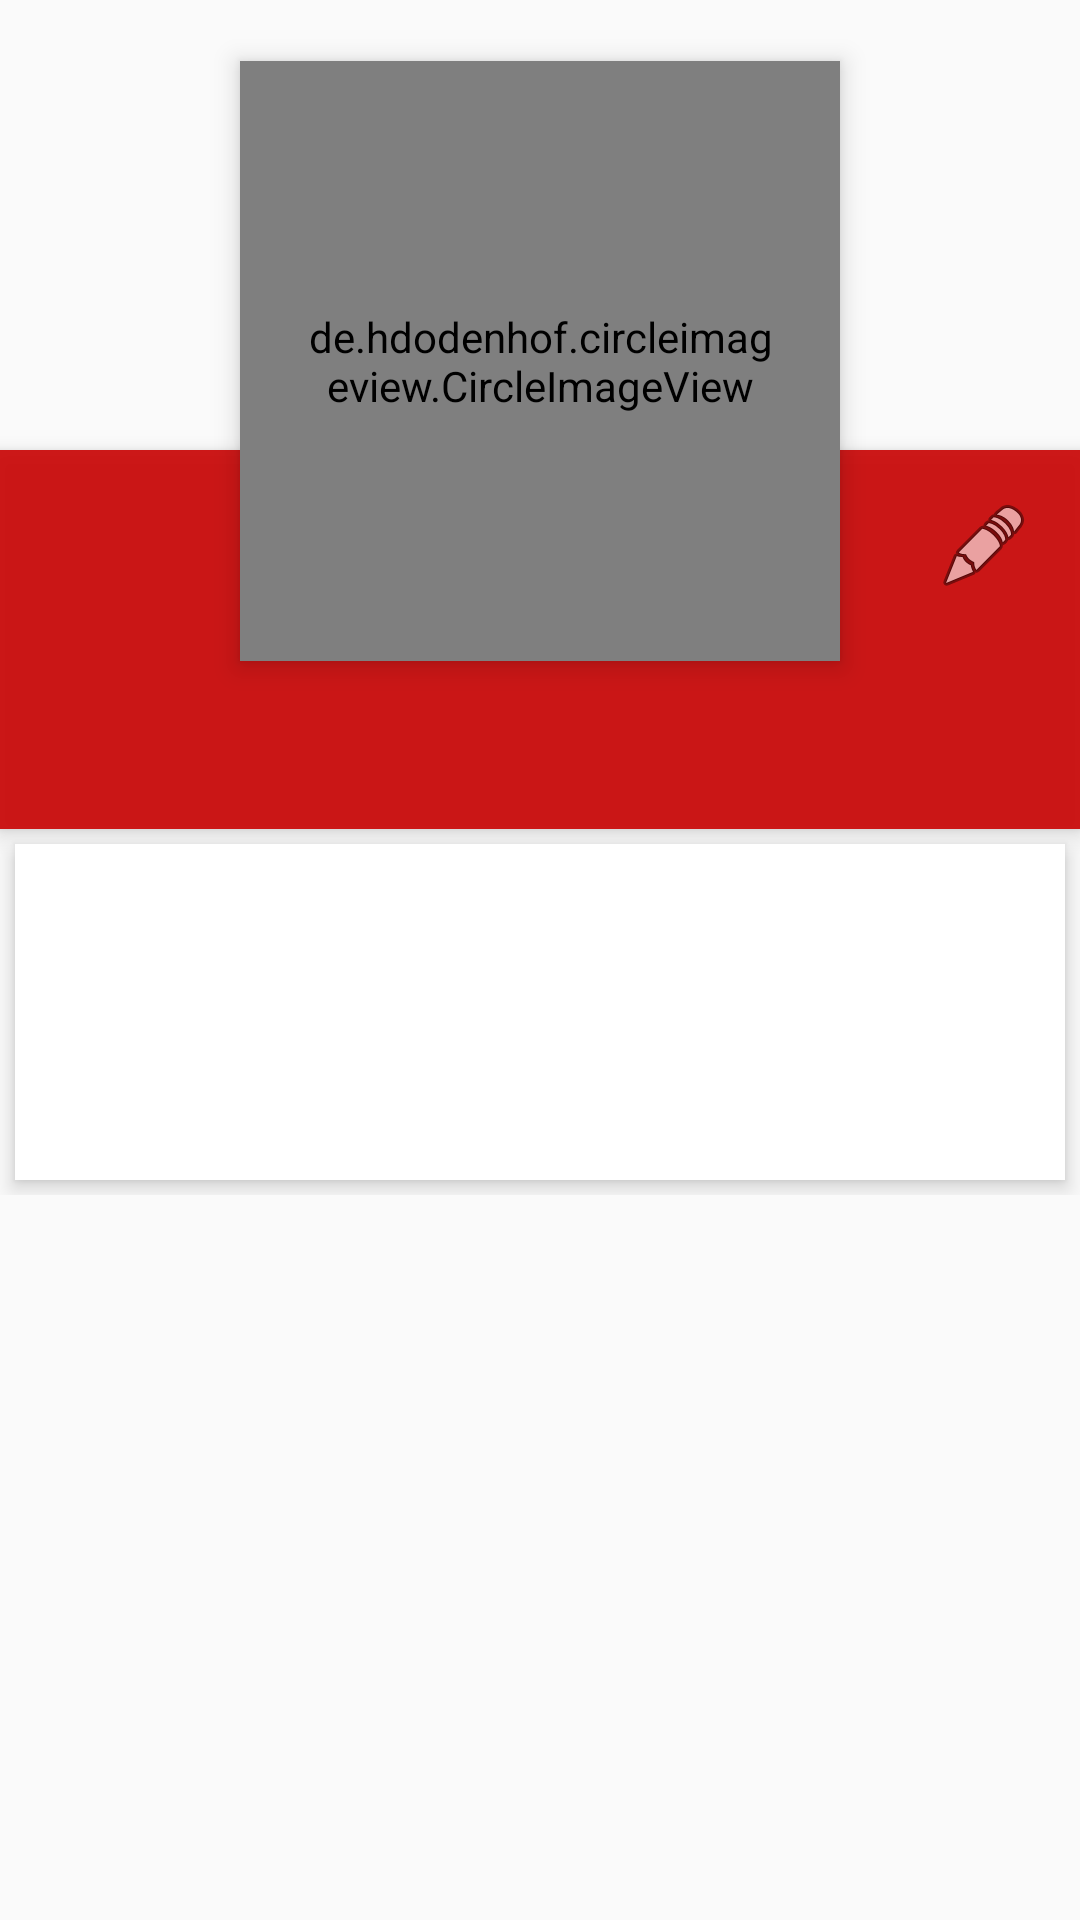

Icons on this 1080x1920 Android screen, each with its box as (x1, y1, x2, y2):
edit: (943, 505, 1024, 586)
